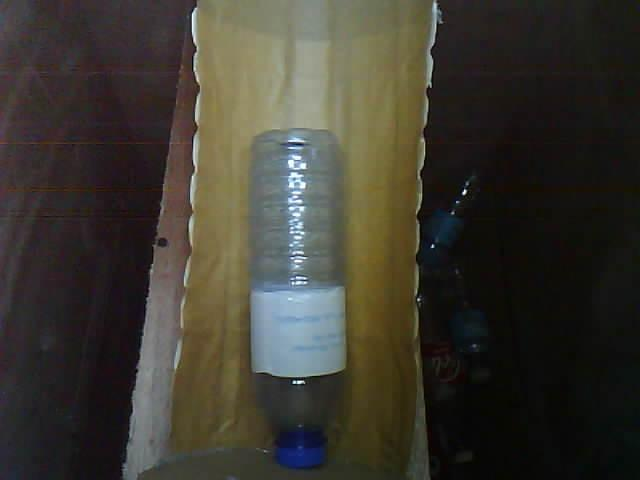small_bottle: (212, 109, 379, 480)
